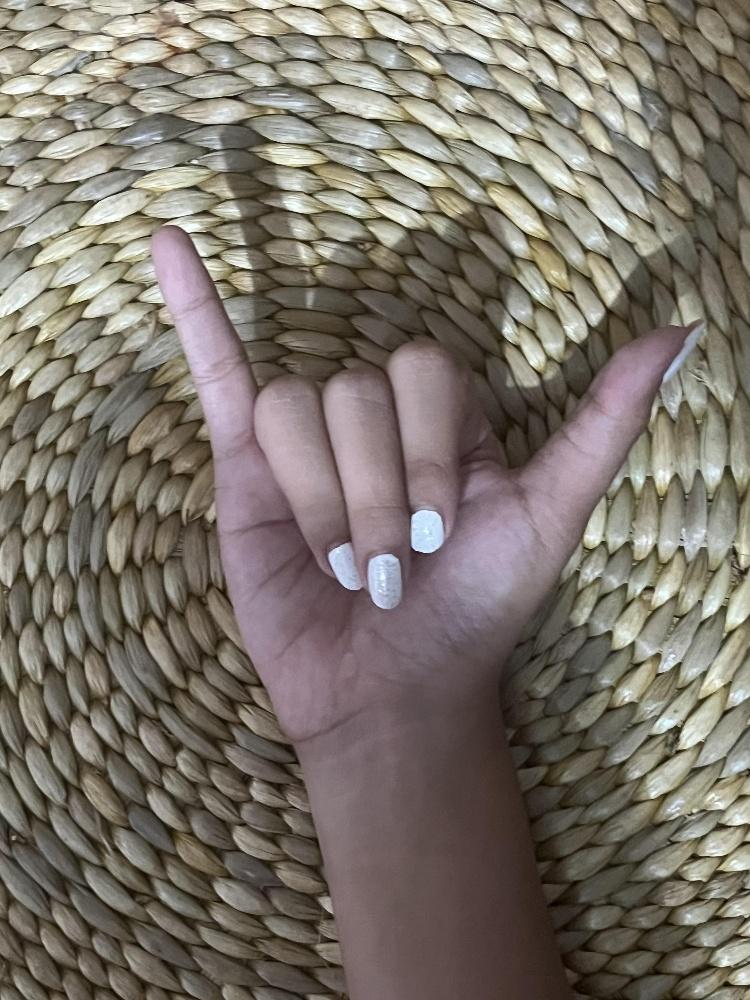y: (143, 218, 705, 714)
